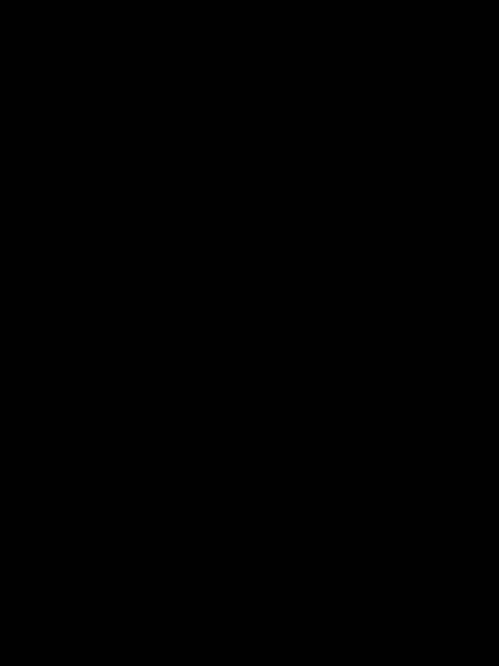carton: (47, 280, 429, 437)
